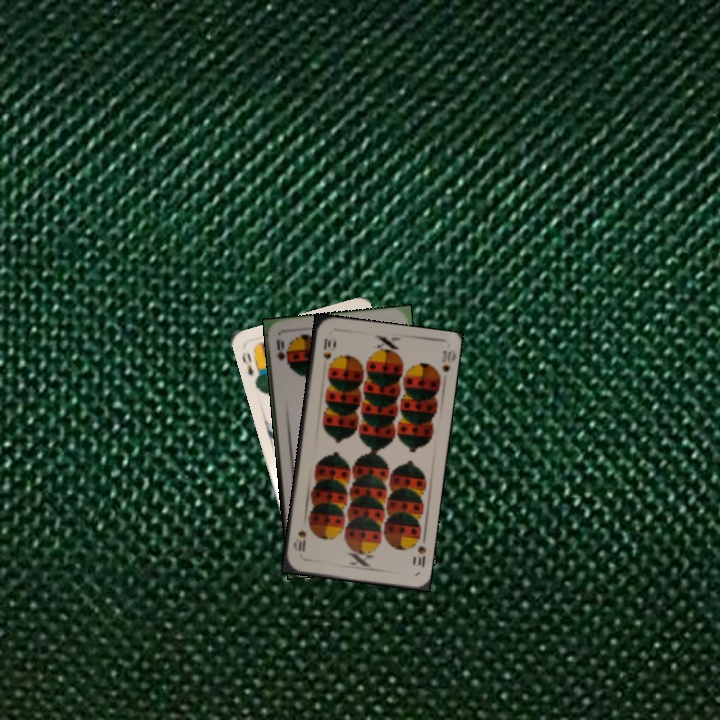EO: (238, 348, 256, 378)
S10: (319, 334, 333, 363), (414, 542, 428, 570)
SO: (271, 335, 290, 367)
